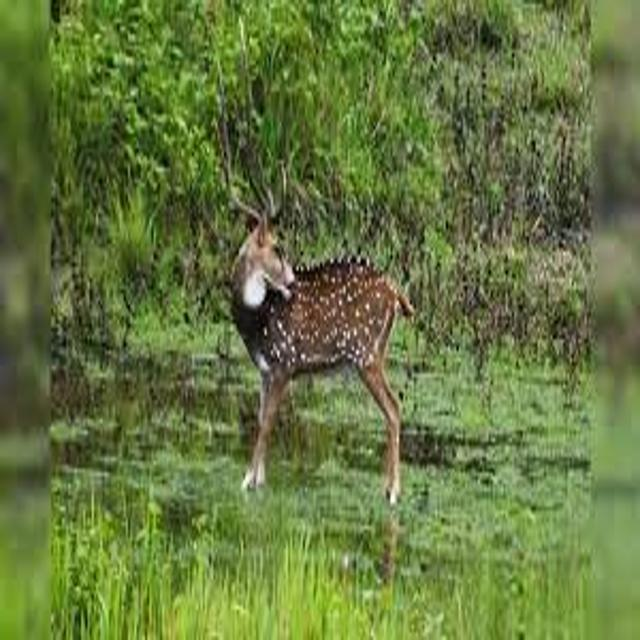deer: (195, 107, 451, 540)
